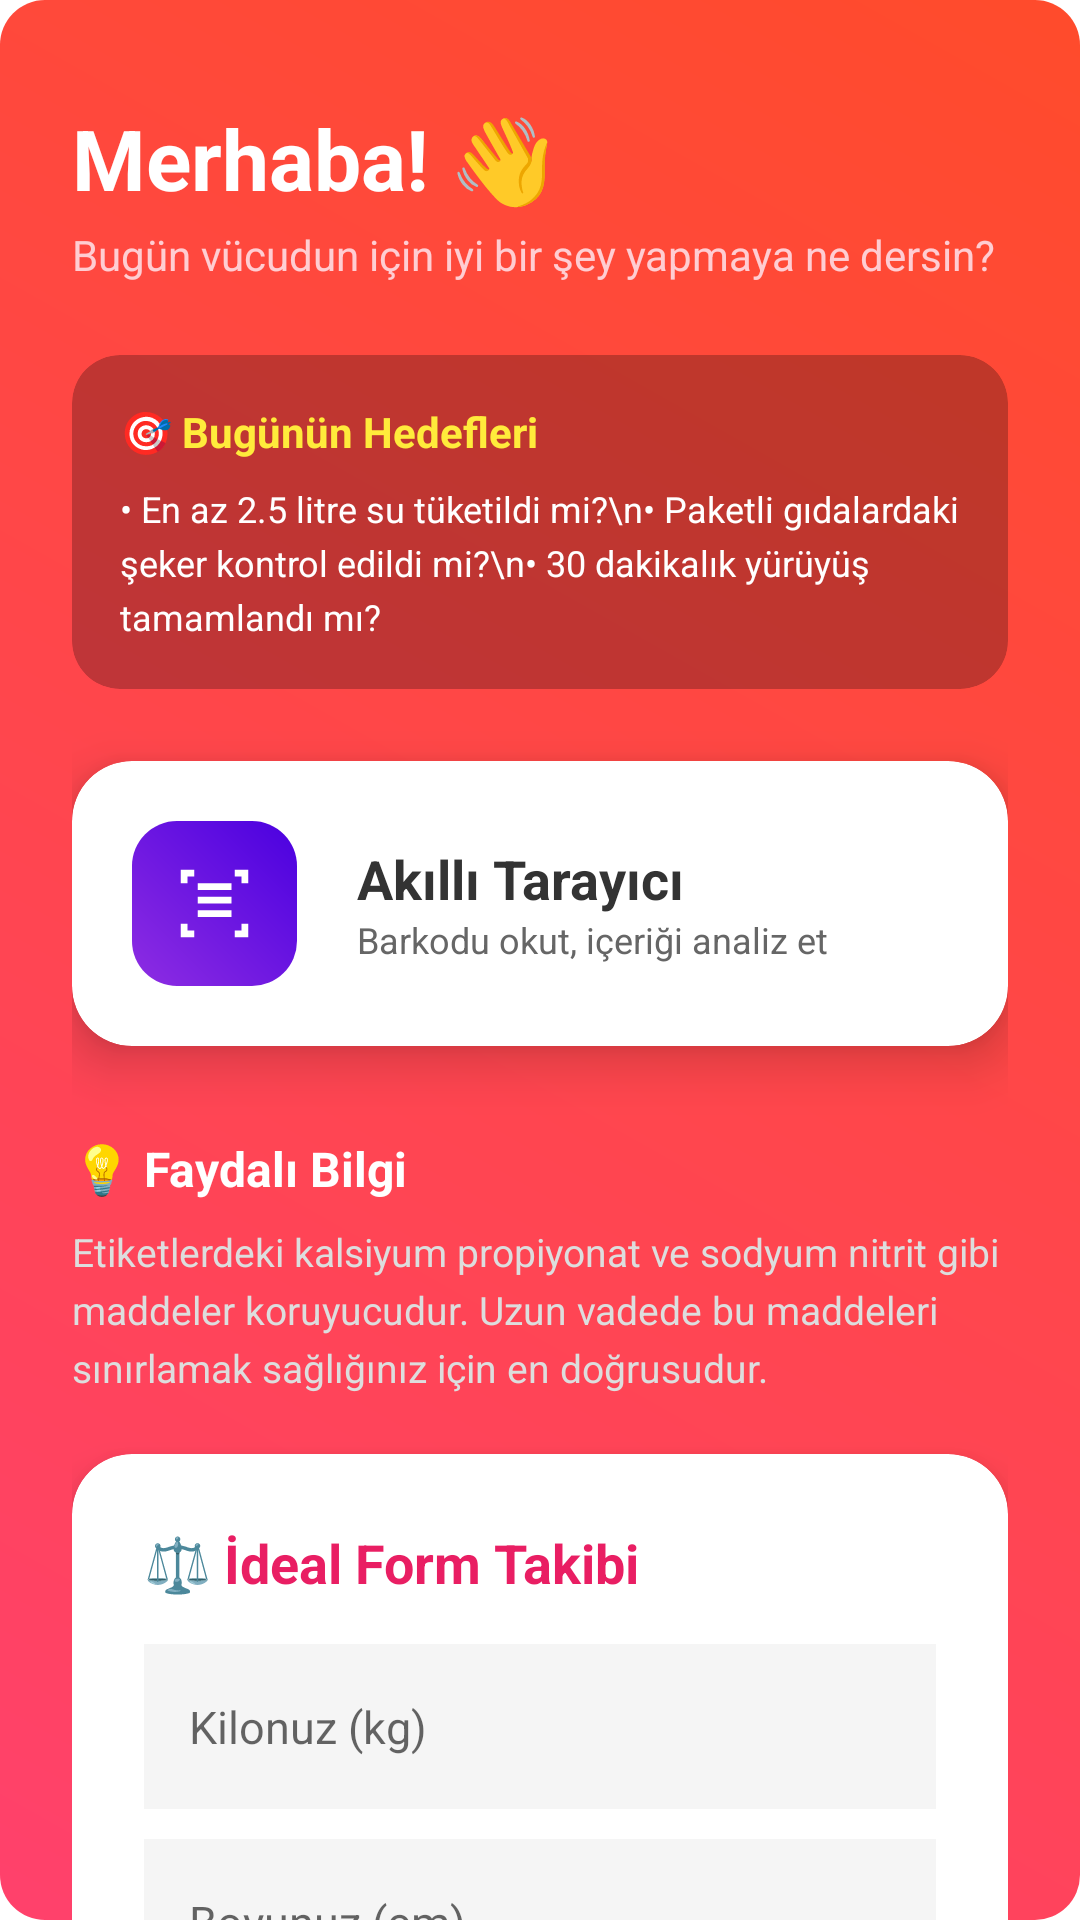

Icon bounding boxes for this 1080×1920 phone screenshot, format [x1=x1, y1=y1, x2=x2, y2=y2]:
scan: [x1=132, y1=821, x2=297, y2=986]
